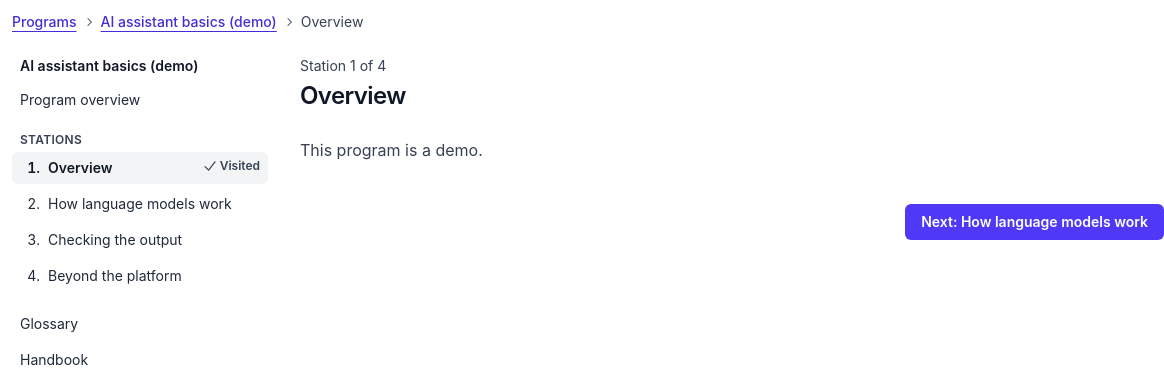
Test: the program shell › a link of the sidebar opens its page, and the mark follows
Expected: the heading "Overview" is shown, [300,81,406,110]
Click the link "Glossary". click: coordinates (49, 324)
box: [20,315,78,332]
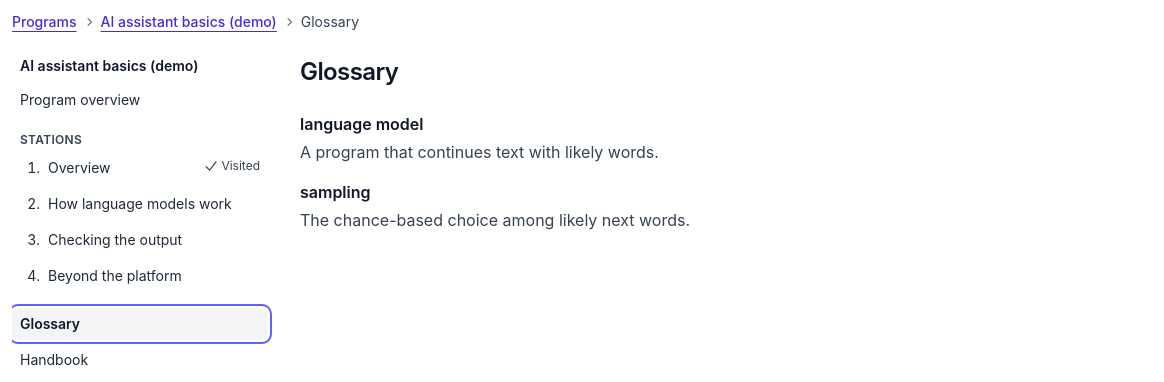
Expected: the heading "Glossary" is shown, [300,57,398,86]
